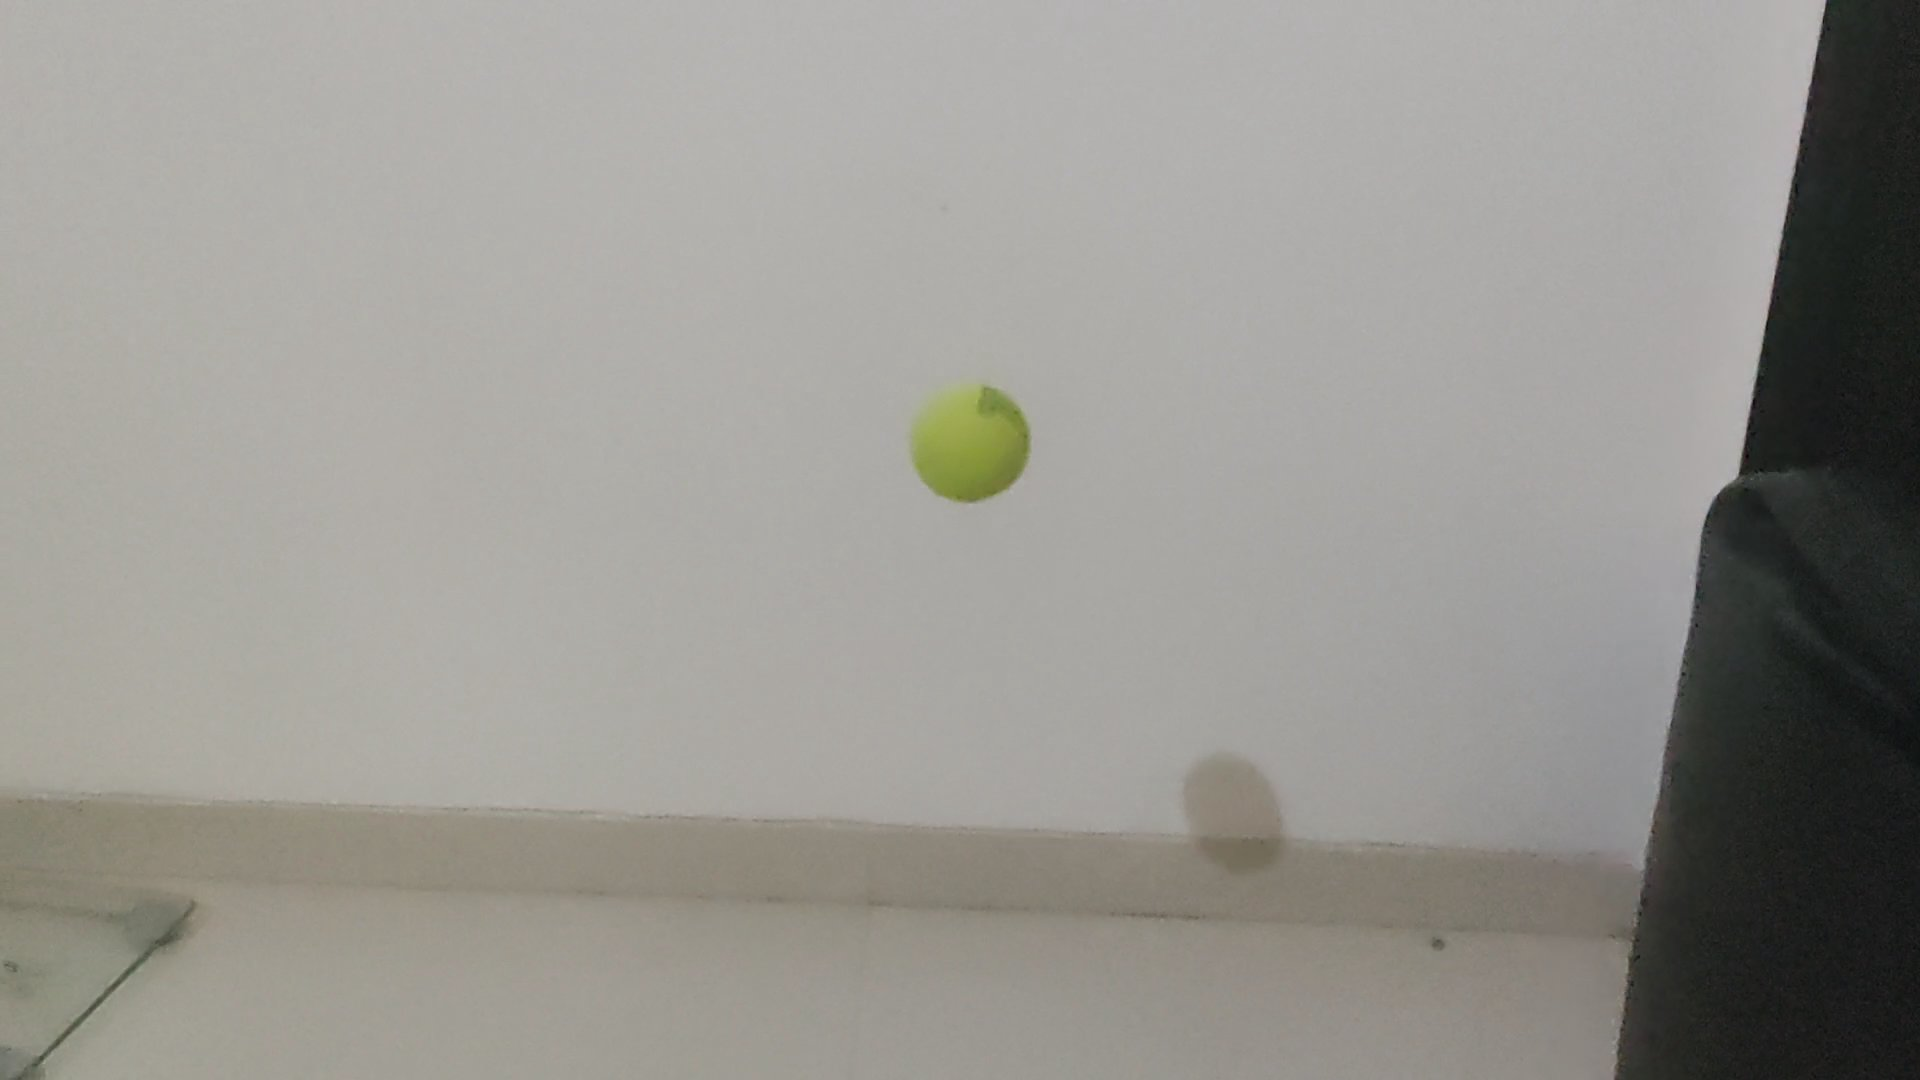Tennis-Ball: (910, 385, 1031, 502)
